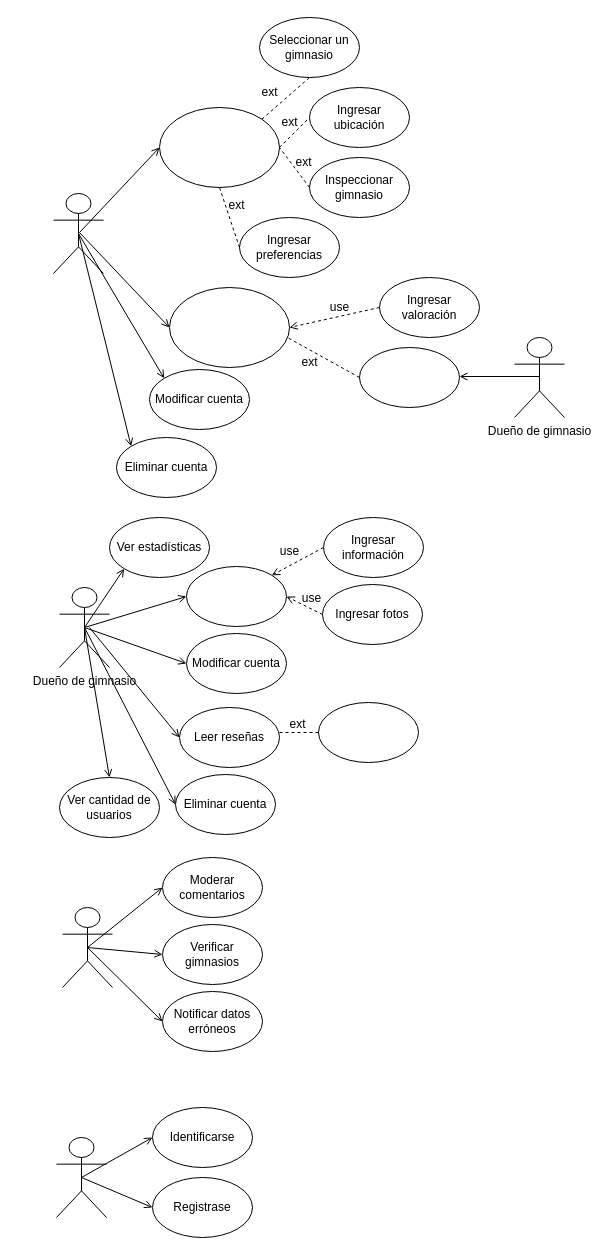
Image size: 608x1256. Some labels were removed from this diagram. The shapes that lost their labels are listed below. From the top down, each one's centre as x and y in pixels, then its label:
At (219,147): "Encontrar un gimnasio".
At (78,233): "Usuario".
At (229,327): "Reseñar un gimnasio".
At (409,377): "Ingresar comentario".
At (236,596): "Ingresar nuevo gimnasio".
At (368,732): "Contestar".
At (87,947): "Administrador".
At (81,1177): "Usuarios no identificado".
